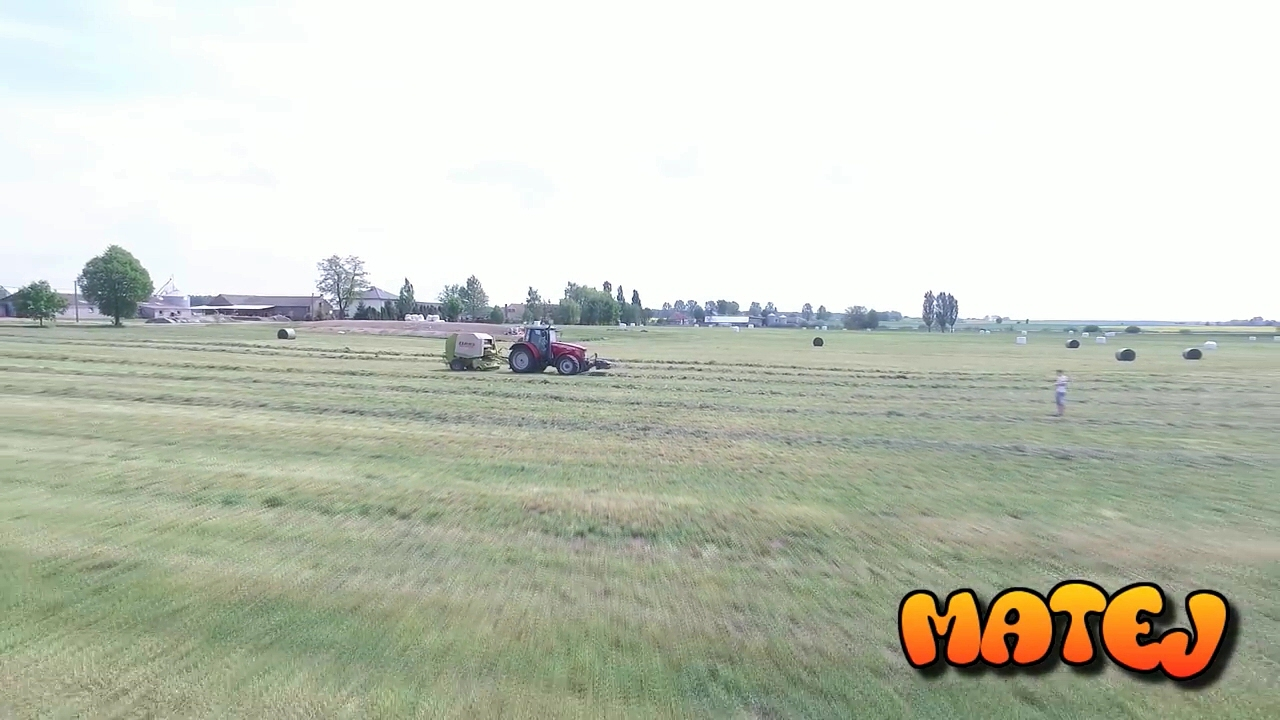insan: (1050, 369, 1073, 418)
traktor: (504, 322, 589, 376)
